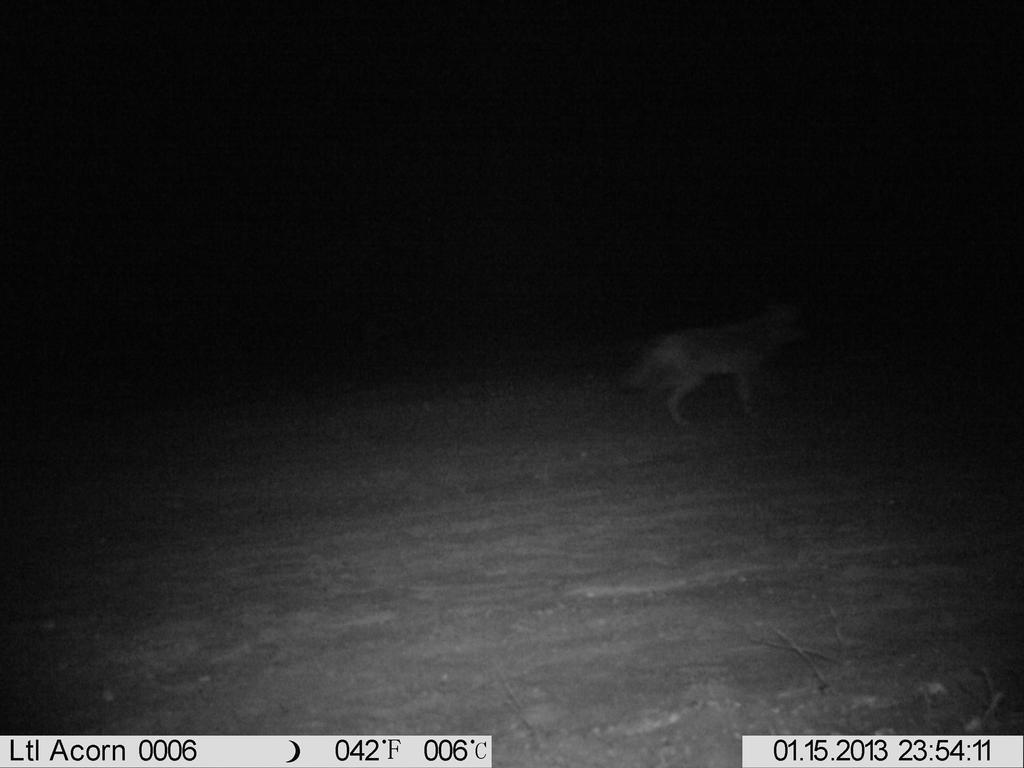coyote: (603, 283, 826, 455)
